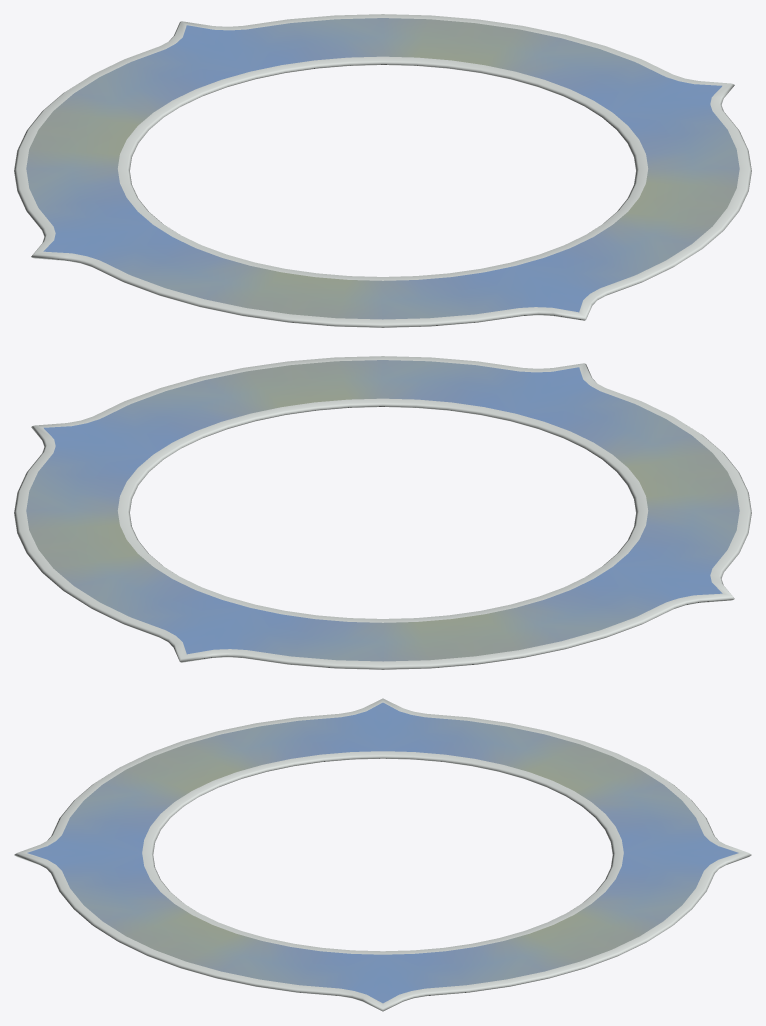
3 renders of one model, top to bottom at view 1: azimuth 30°, elevation 25°; view 2: azimuth 150°, elevation 25°; view 3: azimuth 270°, elevation 25°, orthographic. The views are drawn at different scales.
Parts seen in each view (by area): view 1: G:\FFXIV-MapTools\exports\a2f2\bg\ex1\03_abr_a2\fld\a2f2\bgp (×2); view 2: G:\FFXIV-MapTools\exports\a2f2\bg\ex1\03_abr_a2\fld\a2f2\bgp (×2); view 3: G:\FFXIV-MapTools\exports\a2f2\bg\ex1\03_abr_a2\fld\a2f2\bgp (×2).
Boxes of the visible parts, x1,y1,x2,y2 form: G:\FFXIV-MapTools\exports\a2f2\bg\ex1\03_abr_a2\fld\a2f2\bgp (×2): [14, 14, 751, 327]; G:\FFXIV-MapTools\exports\a2f2\bg\ex1\03_abr_a2\fld\a2f2\bgp (×2): [14, 356, 751, 669]; G:\FFXIV-MapTools\exports\a2f2\bg\ex1\03_abr_a2\fld\a2f2\bgp (×2): [14, 698, 751, 1011].
Size of the model in its own units: 155 by 0.9404 by 155.
